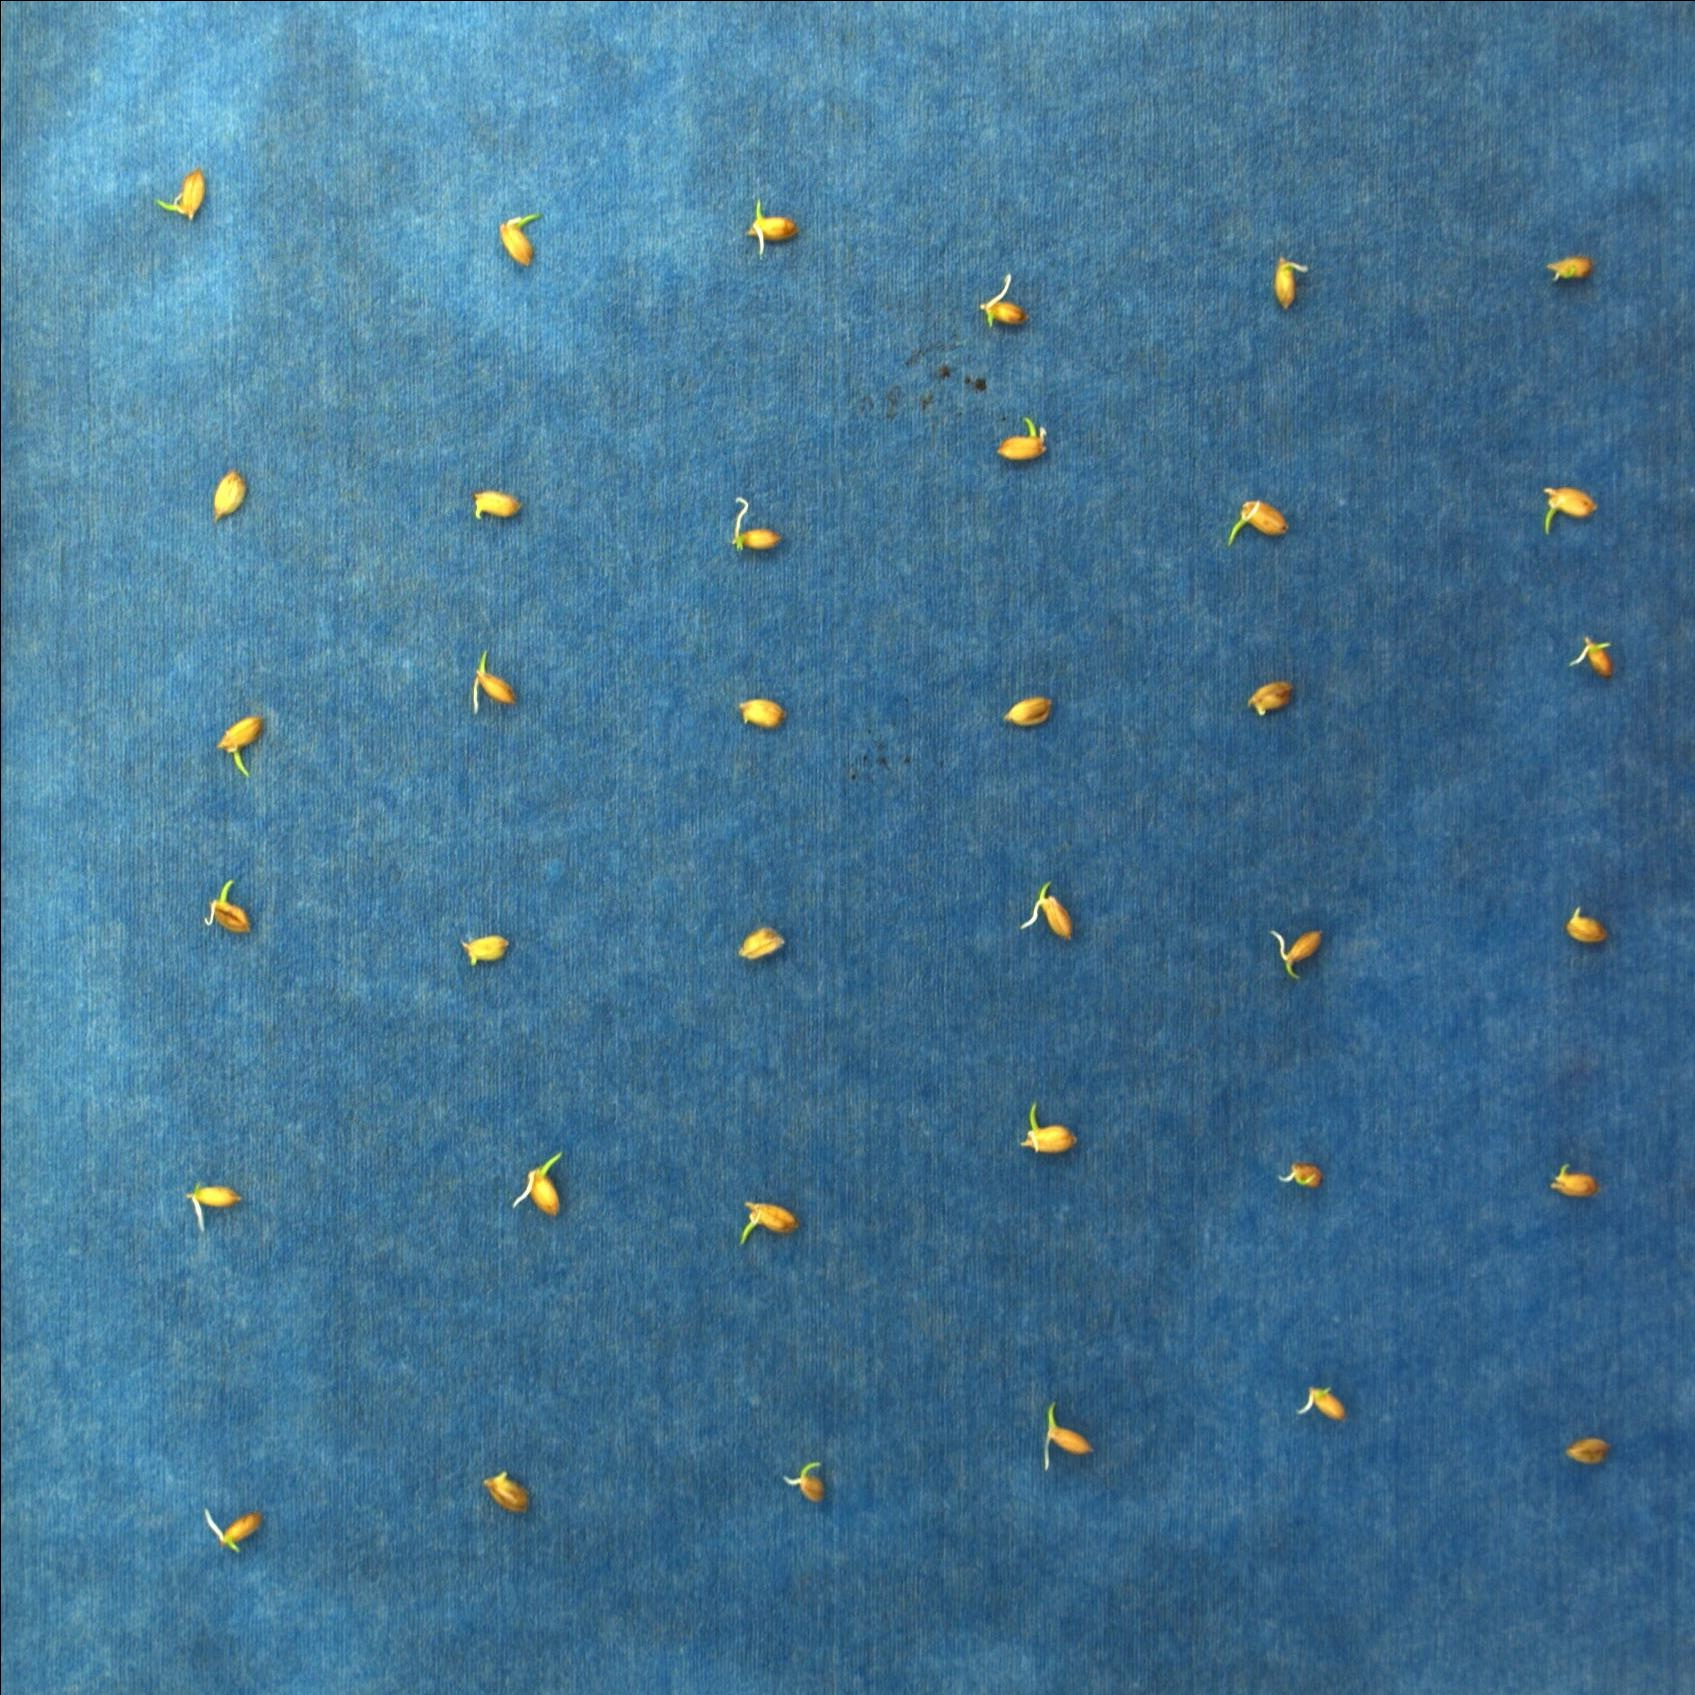not sprout: (733, 194, 796, 258), (1018, 882, 1074, 947), (726, 494, 785, 553), (196, 1499, 259, 1554), (989, 414, 1059, 461), (182, 1184, 250, 1231), (1271, 927, 1326, 979), (1293, 1380, 1354, 1426), (973, 267, 1018, 326), (453, 930, 518, 970), (473, 1467, 529, 1513), (1565, 626, 1617, 674), (1000, 688, 1059, 730), (469, 481, 522, 522), (1273, 250, 1307, 312), (1242, 683, 1298, 720), (210, 469, 247, 523), (733, 692, 782, 728), (1565, 906, 1611, 944), (737, 927, 781, 965), (1548, 1164, 1599, 1195), (1544, 248, 1591, 281), (1274, 1159, 1322, 1187), (1562, 1439, 1613, 1464)
sprout: (1038, 1400, 1093, 1471), (487, 206, 545, 267), (1015, 1099, 1077, 1153), (512, 1153, 567, 1212), (220, 712, 265, 781), (1540, 483, 1599, 534), (1225, 501, 1291, 546), (737, 1198, 799, 1246), (200, 879, 251, 934), (470, 650, 514, 714), (158, 165, 205, 217), (784, 1454, 830, 1503)
